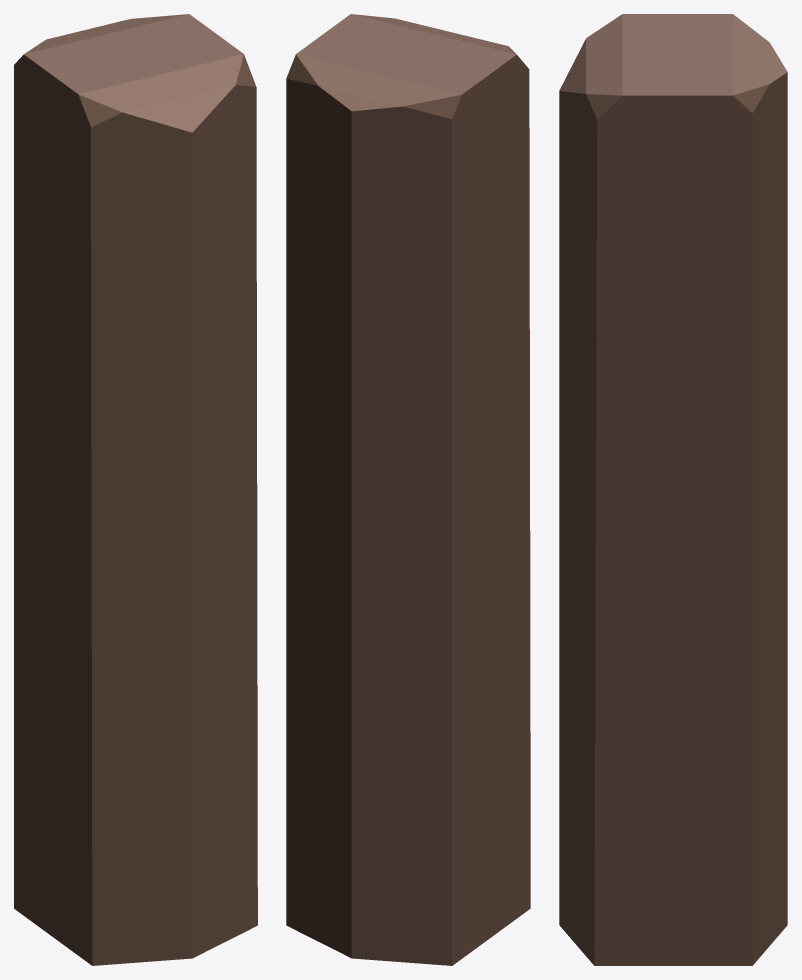
Rendered from stone_pillar_02.glb.
3 renders of one model, left to right at view 1: azimuth 30°, elevation 25°; view 2: azimuth 150°, elevation 25°; view 3: azimuth 270°, elevation 25°, orthographic.
Visible parts, largest first — view 1: Plane.016; view 2: Plane.016; view 3: Plane.016.
Part boxes in pixels (left/top/right/bottom): Plane.016: left=14, top=14, right=257, bottom=965; Plane.016: left=286, top=14, right=530, bottom=965; Plane.016: left=559, top=14, right=787, bottom=965.
Bounding box in the file's own units: 10 × 49.72 × 11.83.
1 material, 1 textured.
